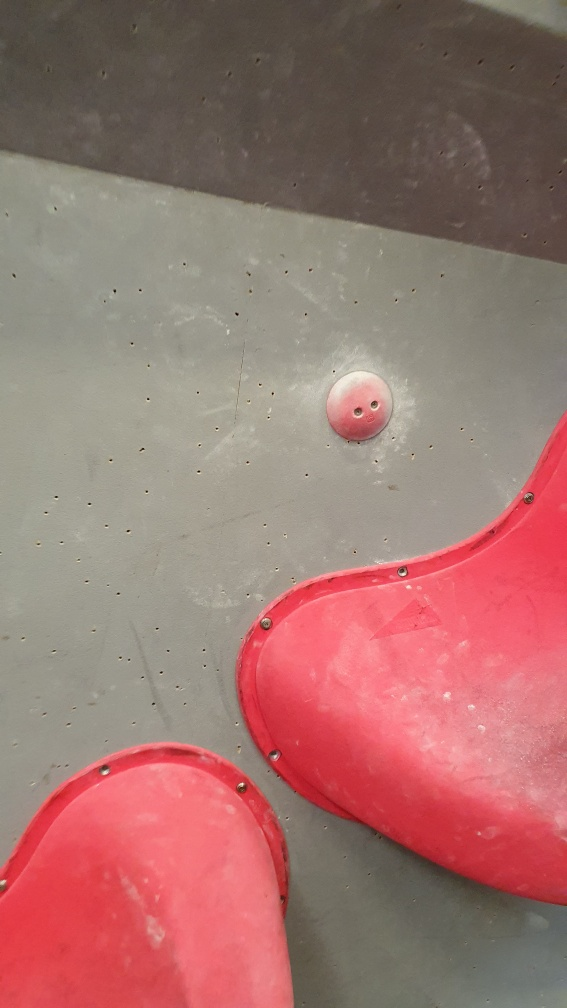Sloper: (320, 362, 400, 450)
